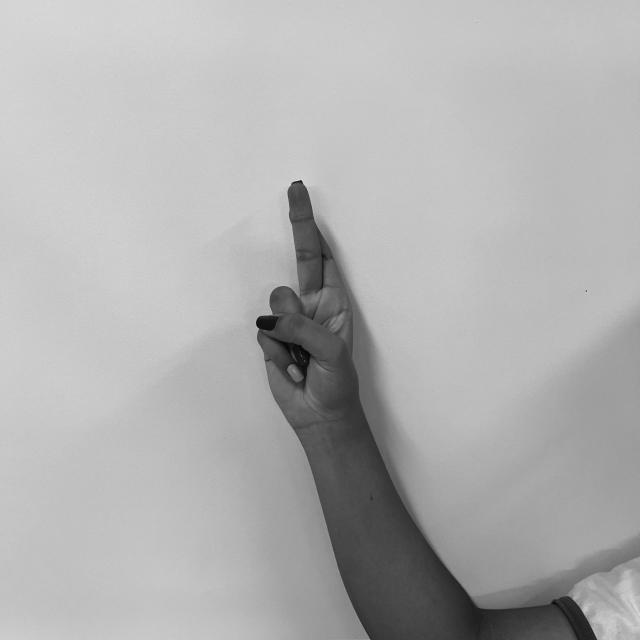Letra R: (249, 173, 360, 425)
